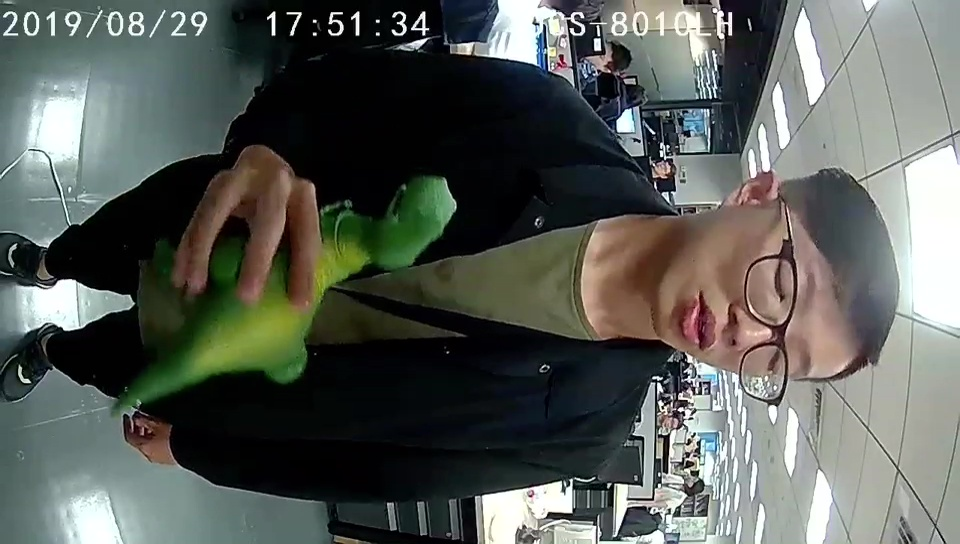rex: (155, 171, 457, 384)
